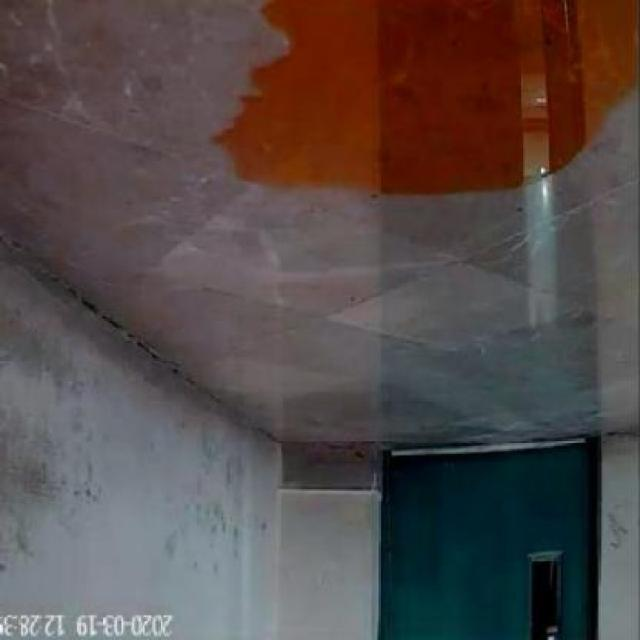spillage: (214, 0, 637, 194)
